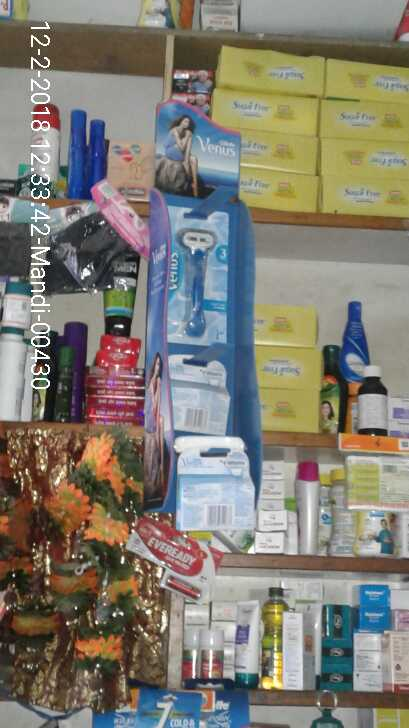venus: (166, 194, 226, 350)
